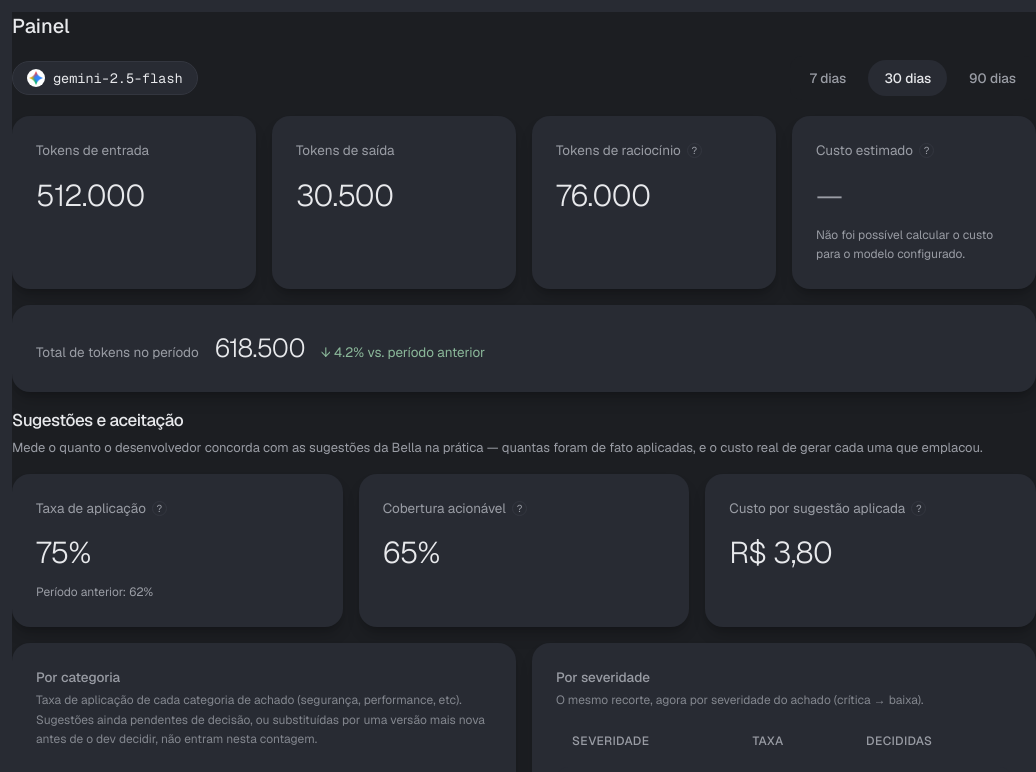
Scenario: DashboardPage › renders the acceptance-metrics section, and updates it too when the period changes
Check: the heading "Sugestões e aceitação" is shown, box left=12, top=408, right=183, bottom=430
Check: the text "75%" is shown, box left=36, top=533, right=91, bottom=572
What coordinates should you click on to do the following:
click the button "7 dias"
I would click on:
 (828, 78)
Its box is left=794, top=60, right=862, bottom=96.
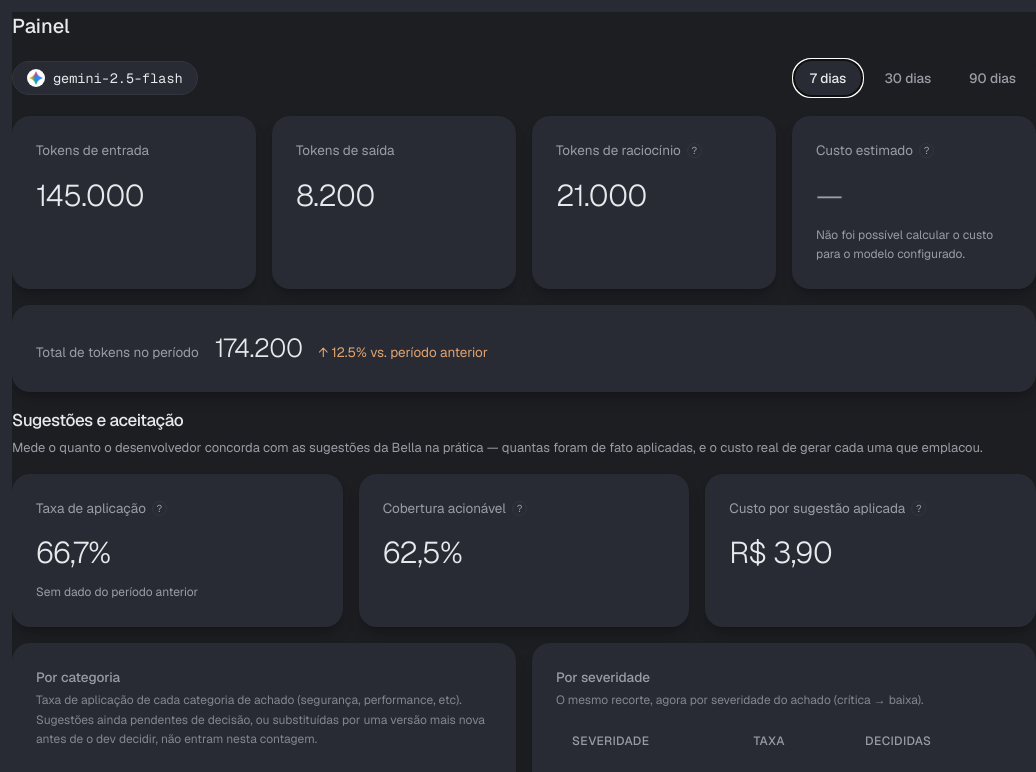
Check: the text "66,7%" is shown, box left=36, top=533, right=110, bottom=572
Check: the text "75%" is gone
